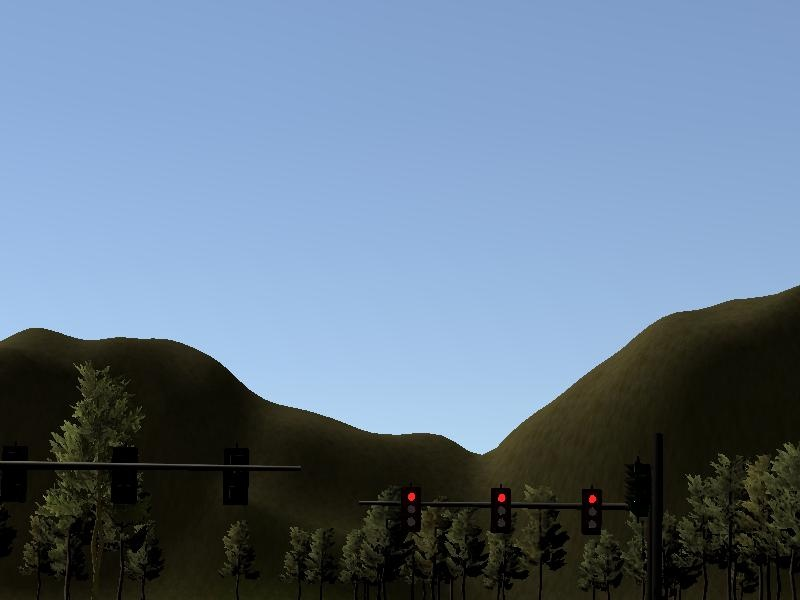traffic_light_red: (388, 488, 628, 539)
